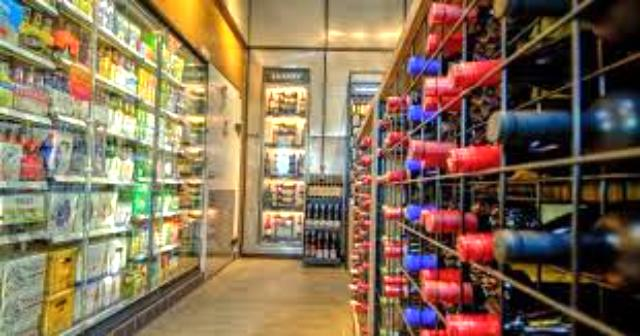background: (2, 1, 640, 336)
